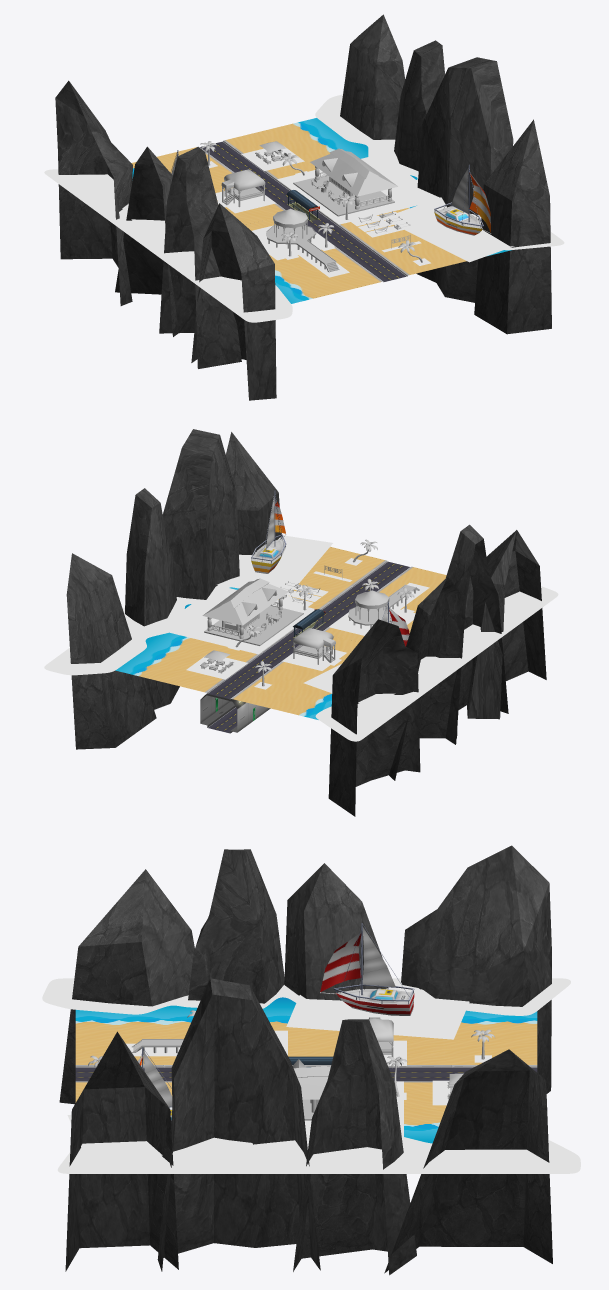
The model's file is Beach_06.fbx.
3 views of the same model, one above another, from view 1: azimuth 30°, elevation 25°; view 2: azimuth 150°, elevation 25°; view 3: azimuth 270°, elevation 25° (orthographic). The views are drawn at different scales.
Parts seen in each view (by area): view 1: Beach_06; view 2: Beach_06; view 3: Beach_06.
Part boxes in pixels (x1,y1,x2,y2): Beach_06: [44, 14, 564, 400]; Beach_06: [44, 429, 558, 816]; Beach_06: [42, 845, 580, 1275].
Bounding box in the file's own units: 22617 × 13384 × 25170.
